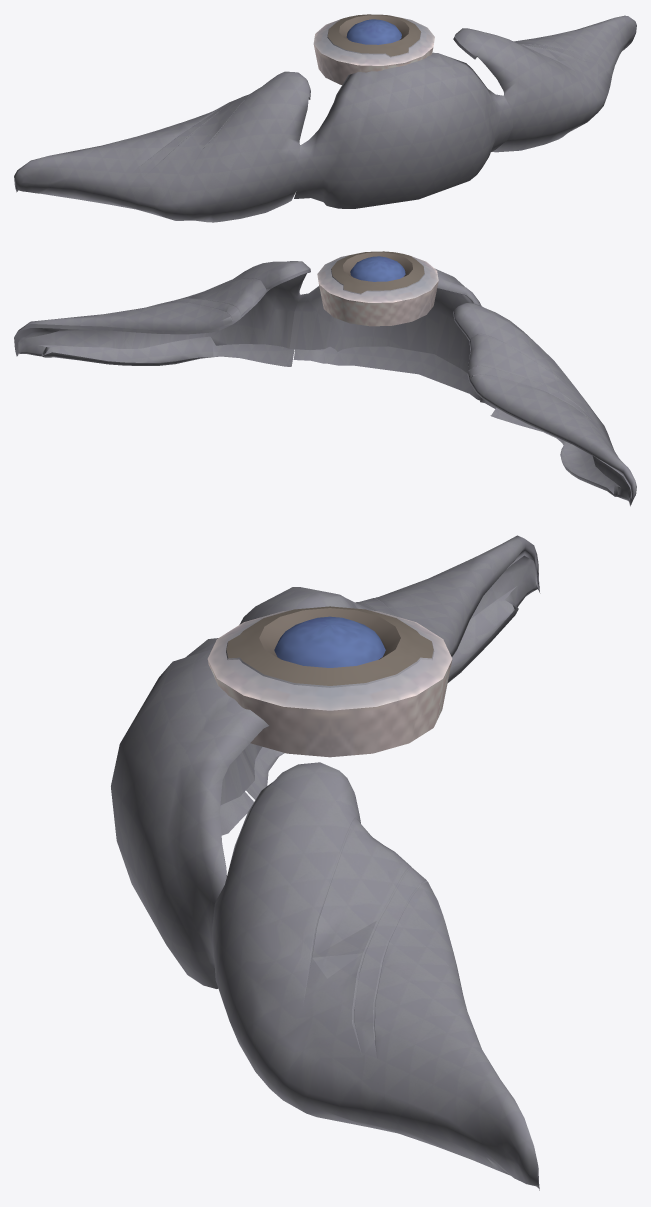
The model's file is pref_sm_beach_bk_pointmol_topbuild01_lv0.fbx.
3 renders of one model, top to bottom at view 1: azimuth 30°, elevation 25°; view 2: azimuth 150°, elevation 25°; view 3: azimuth 270°, elevation 25°, orthographic. The views are drawn at different scales.
Visible parts, largest first — view 1: sm_beach_bk_pointmol_topbuild01b_lv0, sm_beach_bk_pointmol_topbuild01c_lv0, sm_beach_bk_pointmol_topbuild01a_lv0, sm_beach_bk_pointmol_topbuild01d_lv0; view 2: sm_beach_bk_pointmol_topbuild01a_lv0, sm_beach_bk_pointmol_topbuild01b_lv0, sm_beach_bk_pointmol_topbuild01c_lv0, sm_beach_bk_pointmol_topbuild01d_lv0; view 3: sm_beach_bk_pointmol_topbuild01a_lv0, sm_beach_bk_pointmol_topbuild01c_lv0, sm_beach_bk_pointmol_topbuild01d_lv0, sm_beach_bk_pointmol_topbuild01b_lv0.
Boxes of the visible parts, x1,y1,x2,y2 form: sm_beach_bk_pointmol_topbuild01b_lv0: (14, 71, 310, 222); sm_beach_bk_pointmol_topbuild01c_lv0: (294, 52, 513, 208); sm_beach_bk_pointmol_topbuild01a_lv0: (453, 15, 636, 152); sm_beach_bk_pointmol_topbuild01d_lv0: (313, 14, 434, 84); sm_beach_bk_pointmol_topbuild01a_lv0: (14, 261, 310, 366); sm_beach_bk_pointmol_topbuild01b_lv0: (453, 303, 636, 506); sm_beach_bk_pointmol_topbuild01c_lv0: (289, 268, 495, 408); sm_beach_bk_pointmol_topbuild01d_lv0: (317, 251, 438, 326); sm_beach_bk_pointmol_topbuild01a_lv0: (212, 762, 539, 1190); sm_beach_bk_pointmol_topbuild01c_lv0: (111, 638, 268, 988); sm_beach_bk_pointmol_topbuild01d_lv0: (207, 606, 452, 757); sm_beach_bk_pointmol_topbuild01b_lv0: (239, 535, 540, 799).
Bounding box in the file's own units: 157 × 35.88 × 46.99.
